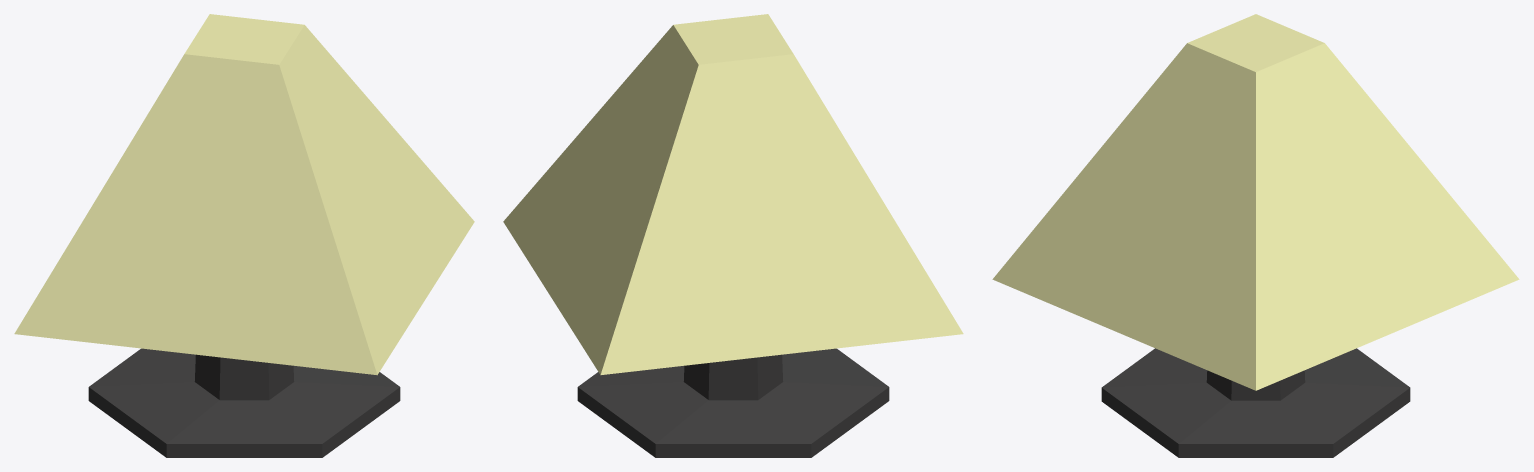
The model's file is SM_Lamp.fbx.
3 views of the same model, side by side, from view 1: azimuth 30°, elevation 25°; view 2: azimuth 150°, elevation 25°; view 3: azimuth 270°, elevation 25° (orthographic).
Visible parts, largest first — view 1: lamp_Mash; view 2: lamp_Mash; view 3: lamp_Mash.
Boxes of the visible parts, left/top/right/bottom form: lamp_Mash: left=14, top=14, right=474, bottom=457; lamp_Mash: left=503, top=14, right=963, bottom=457; lamp_Mash: left=992, top=14, right=1519, bottom=457.
Bounding box in the file's own units: 0.4 × 0.3 × 0.4.
